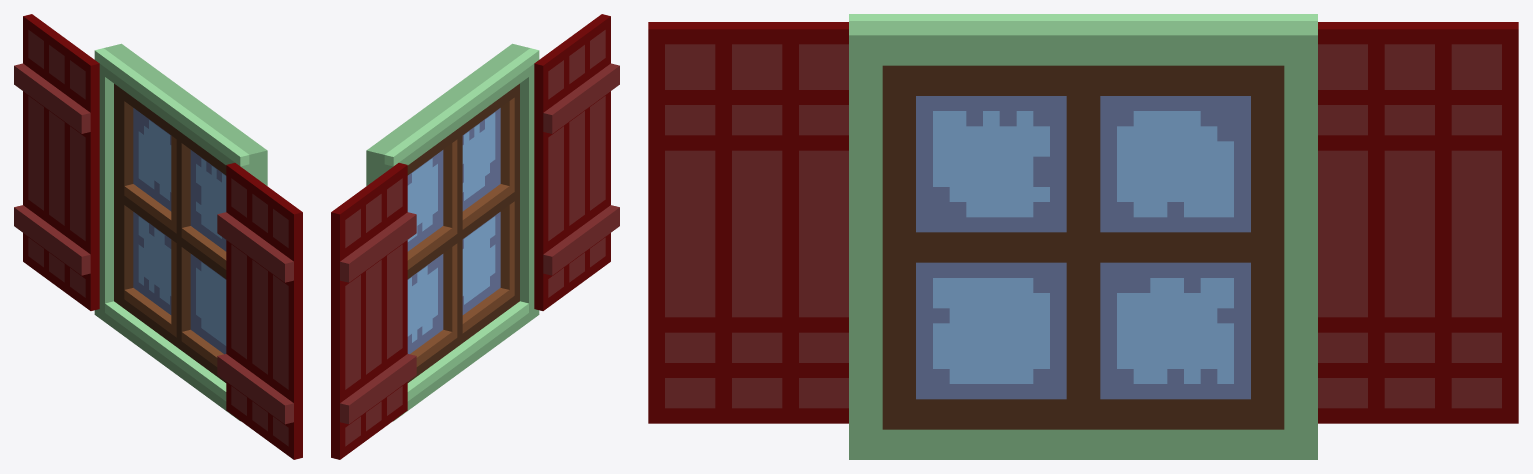
File: window_textured_small_red_green.obj
The picture shows the model from 3 angles, left to right: view 1: azimuth 30°, elevation 25°; view 2: azimuth 150°, elevation 25°; view 3: azimuth 270°, elevation 25°; orthographic projection. The views are drawn at different scales.
Bounding box in the file's own units: 0.5 × 2.8 × 5.2.
1 material, 1 textured.
